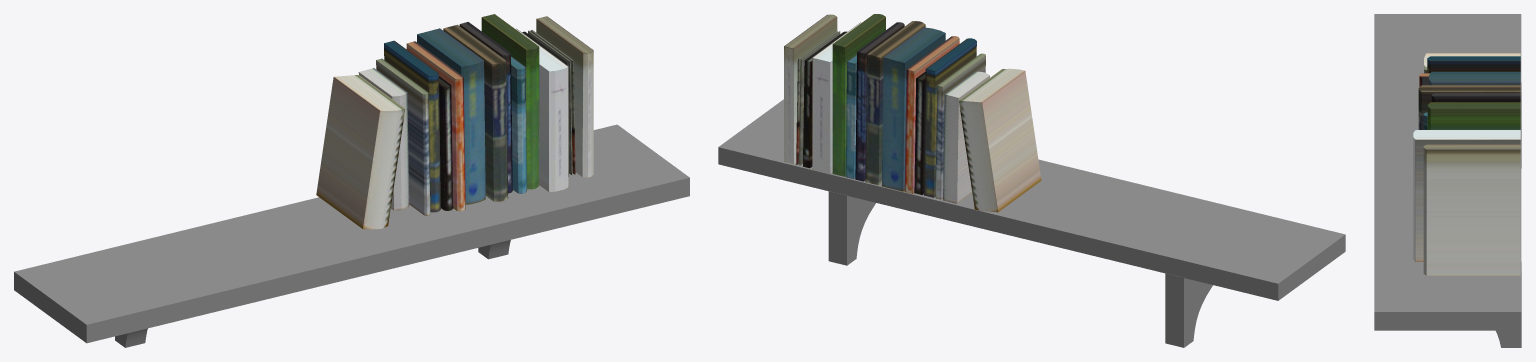
The model's file is shelf.FBX.
3 views of the same model, side by side, from view 1: azimuth 30°, elevation 25°; view 2: azimuth 150°, elevation 25°; view 3: azimuth 270°, elevation 25° (orthographic). The views are drawn at different scales.
Parts seen in each view (by area): view 1: shelf; view 2: shelf; view 3: shelf.
Boxes of the visible parts, x1,y1,x2,y2 form: shelf: (14, 14, 689, 347); shelf: (718, 14, 1345, 347); shelf: (1374, 14, 1521, 347).
Size of the model in its own units: 49.91 by 10.43 by 18.53.
